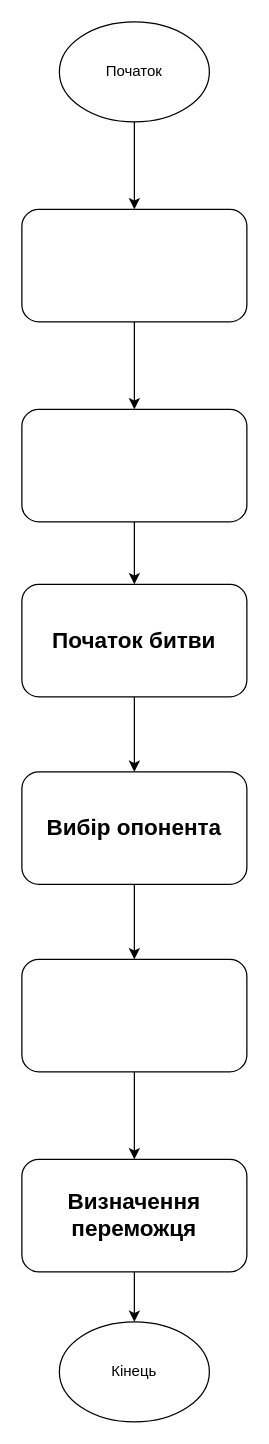
This 269x1444 diagram has some shape labels left out. Each missing label, with the centre of its shape:
"robots[] Масив в якому будуть записані всі робити, що беруть участь у битві" belongs at pixel 134 265.
"Вивід під час битви статів роботів" belongs at pixel 134 1015.
"Роботи добавляються до класу" belongs at pixel 134 465.
